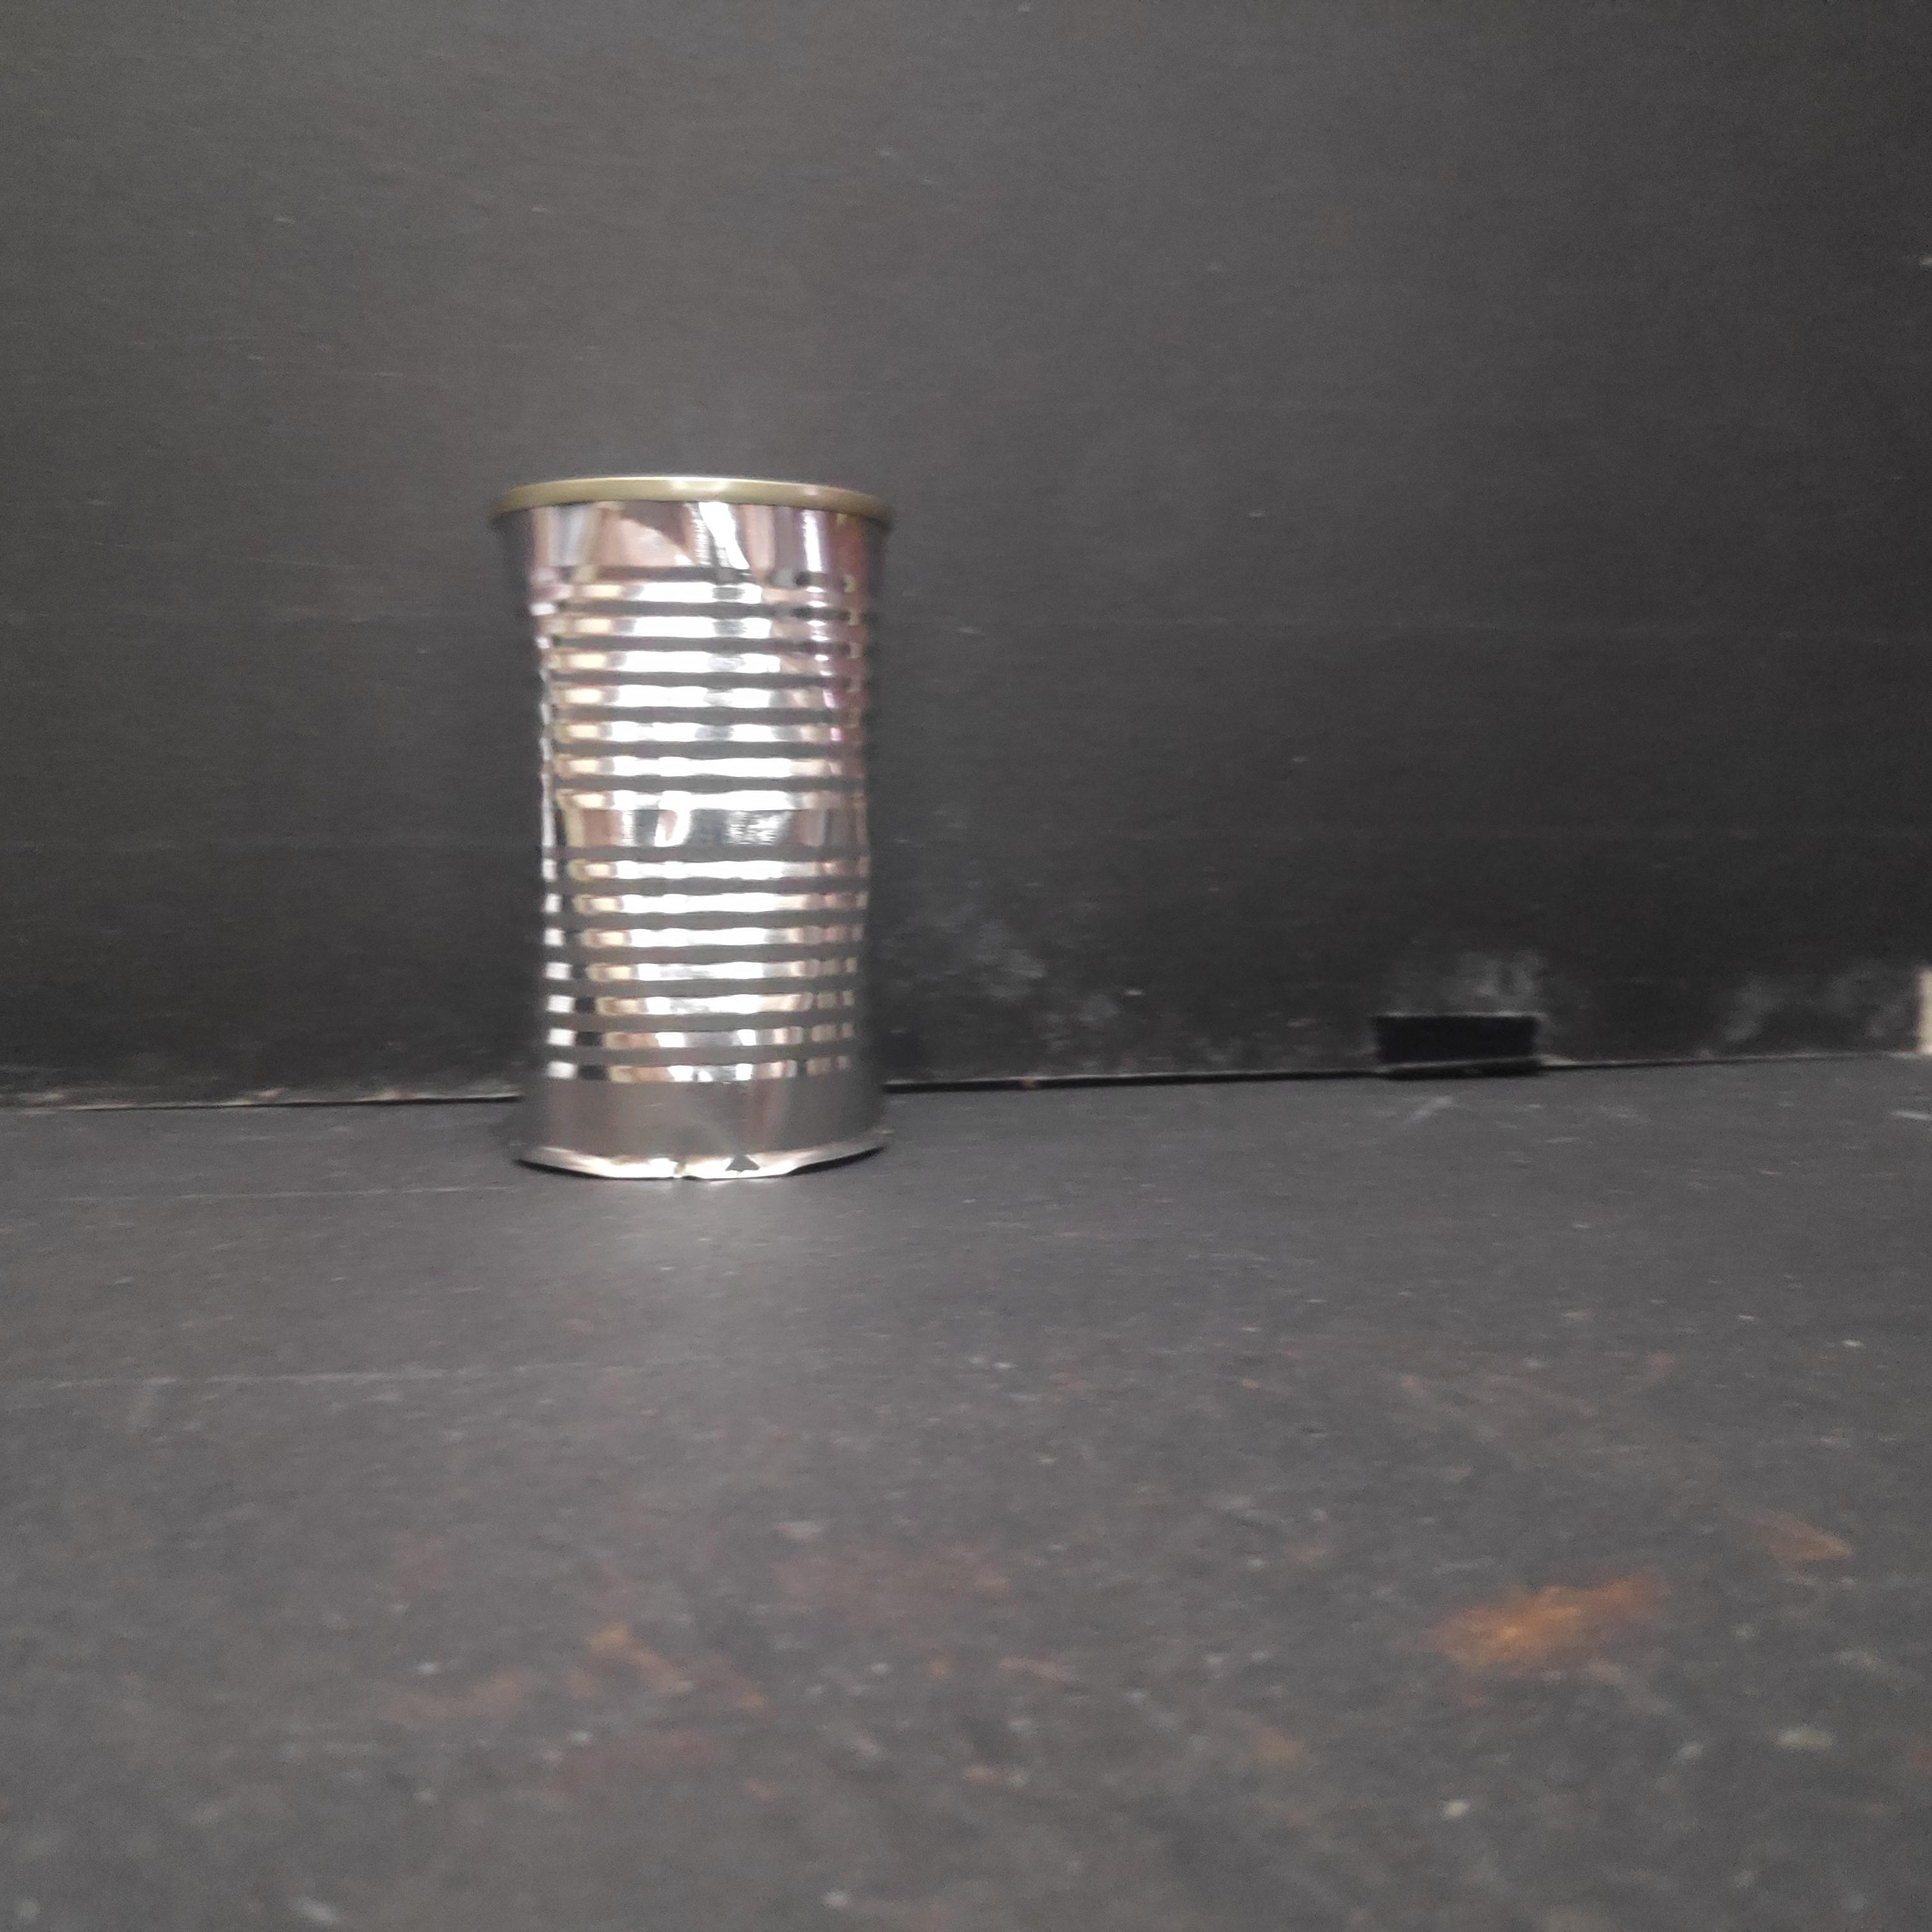Minor Defect: (479, 467, 901, 1201)
